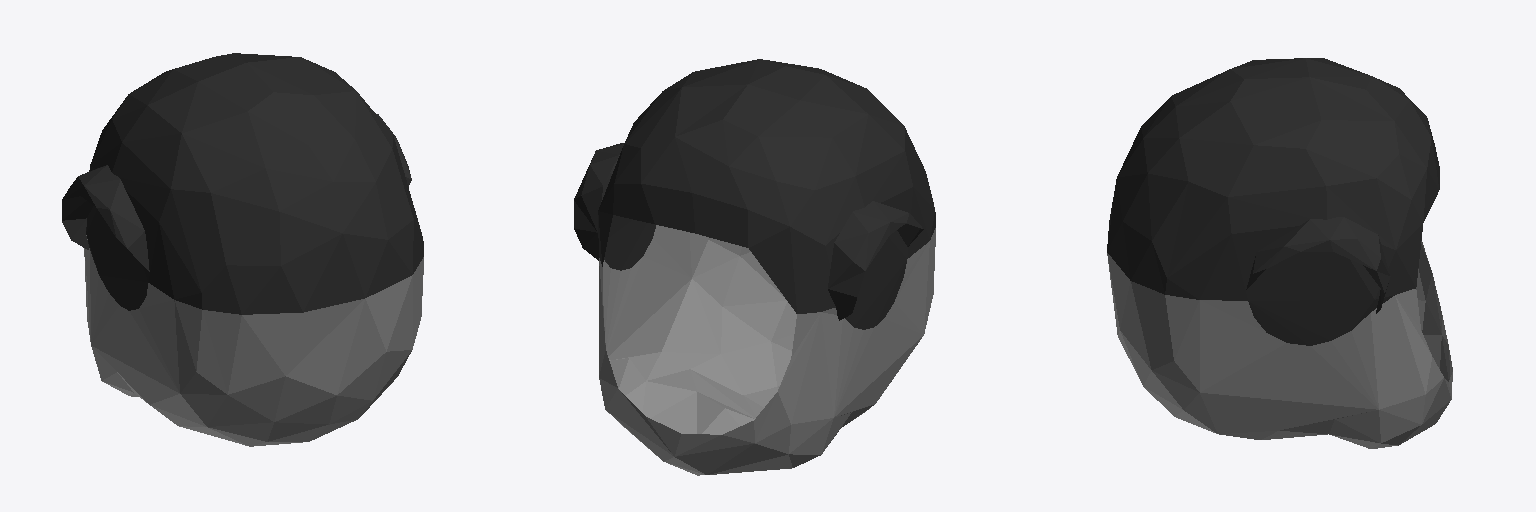
The model's file is icub_simple_collision_head.obj.
3 renders of one model, left to right at view 1: azimuth 30°, elevation 25°; view 2: azimuth 150°, elevation 25°; view 3: azimuth 270°, elevation 25°, orthographic.
Parts seen in each view (by area): view 1: head_mesh_head; view 2: head_mesh_head; view 3: head_mesh_head.
Boxes of the visible parts, box(x1,y1,x2,y2) form: head_mesh_head: box(62, 53, 423, 446); head_mesh_head: box(574, 59, 935, 475); head_mesh_head: box(1107, 58, 1452, 448).
Size of the model in its own units: 0.1822 by 0.2116 by 0.1831.